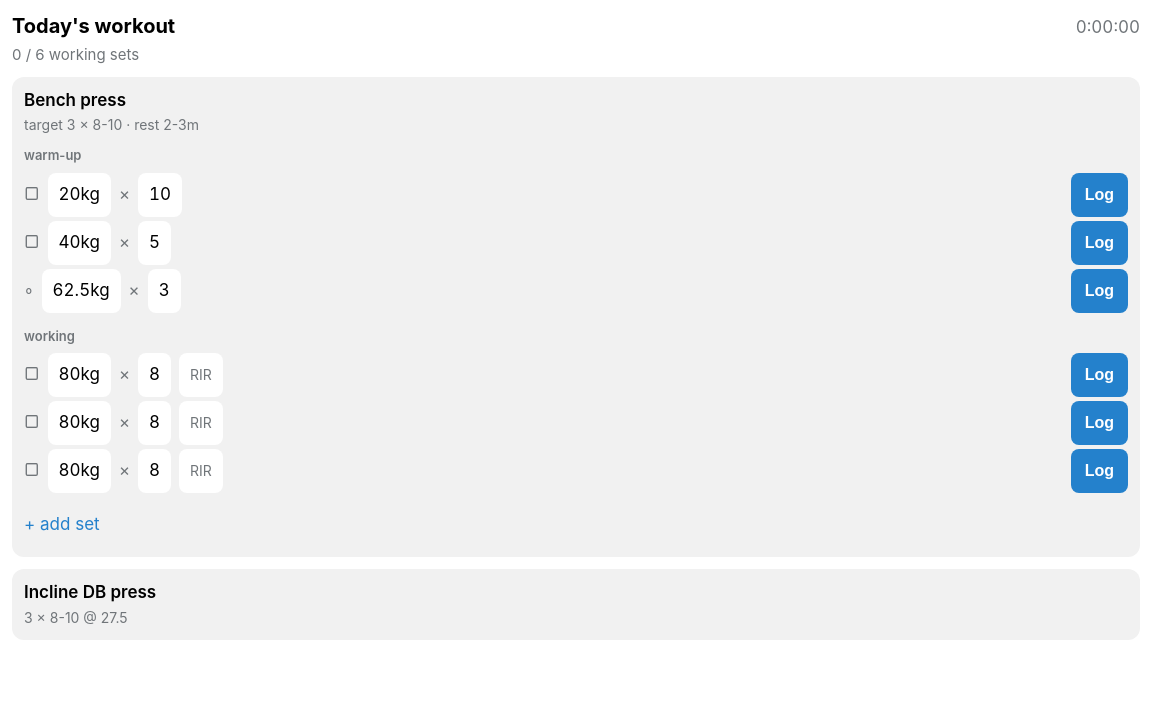
Test: the session screen › one tap on Log confirms the row
The image size is (1152, 720).
expect the text "Bench press" is shown: met, box [24, 89, 126, 113]
Click the 4th button "Log" at (1099, 375), box [1071, 353, 1128, 397]
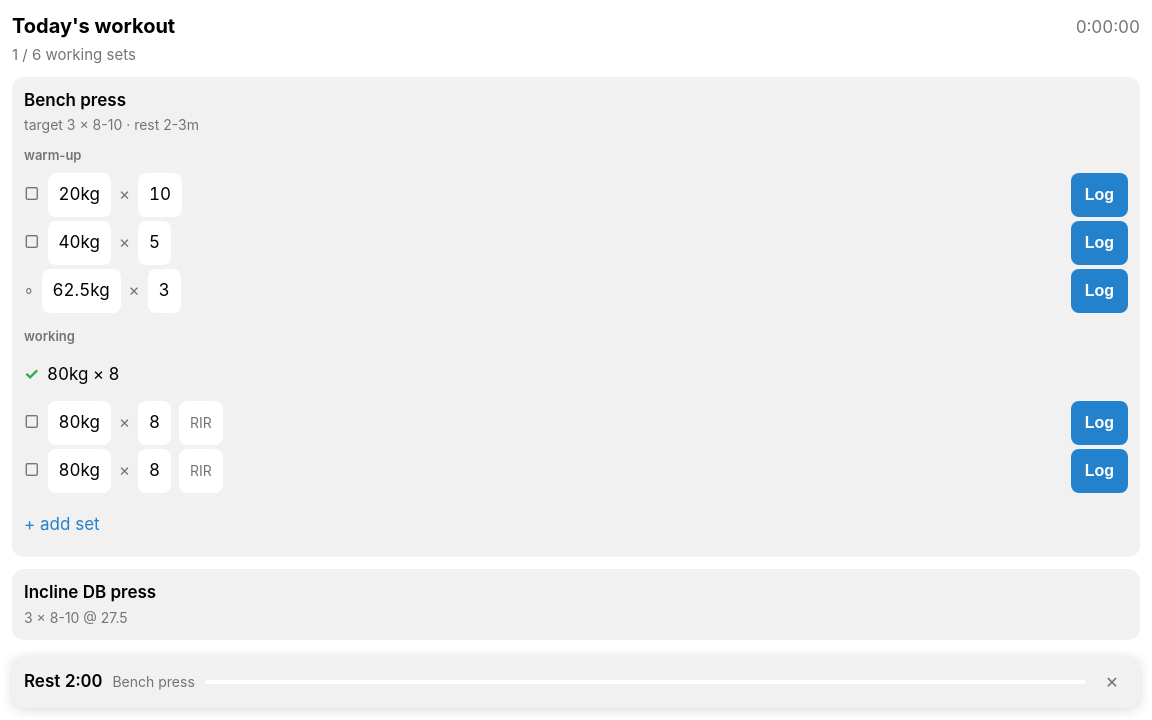
expect the text "1 / 6 working sets" is shown: met, box [12, 45, 136, 64]
